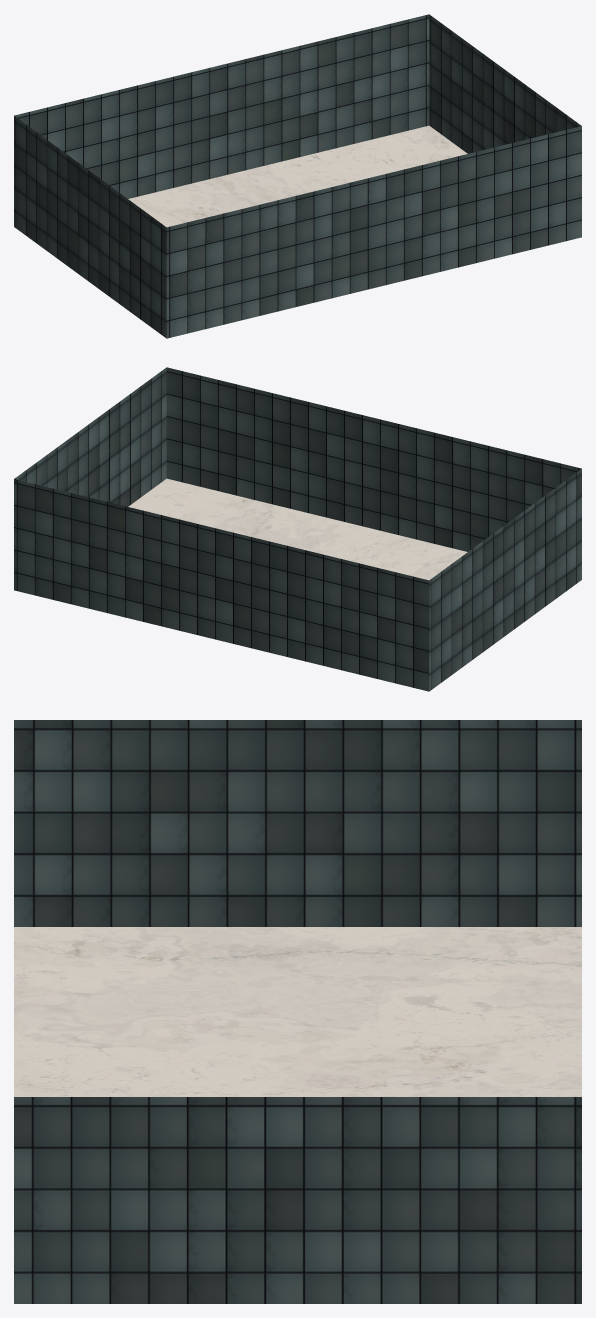
The picture shows the model from 3 angles, top to bottom: view 1: azimuth 30°, elevation 25°; view 2: azimuth 150°, elevation 25°; view 3: azimuth 270°, elevation 25°; orthographic projection. The views are drawn at different scales.
Visible parts, largest first — view 1: 一楼; view 2: 一楼; view 3: 一楼.
Part boxes in pixels (x1,y1,x2,y2): 一楼: (14, 14, 581, 338); 一楼: (14, 367, 581, 691); 一楼: (14, 720, 581, 1303).
Size of the model in its own units: 78.1 by 20 by 49.75.
Materials: 2 (2 with a texture image).
